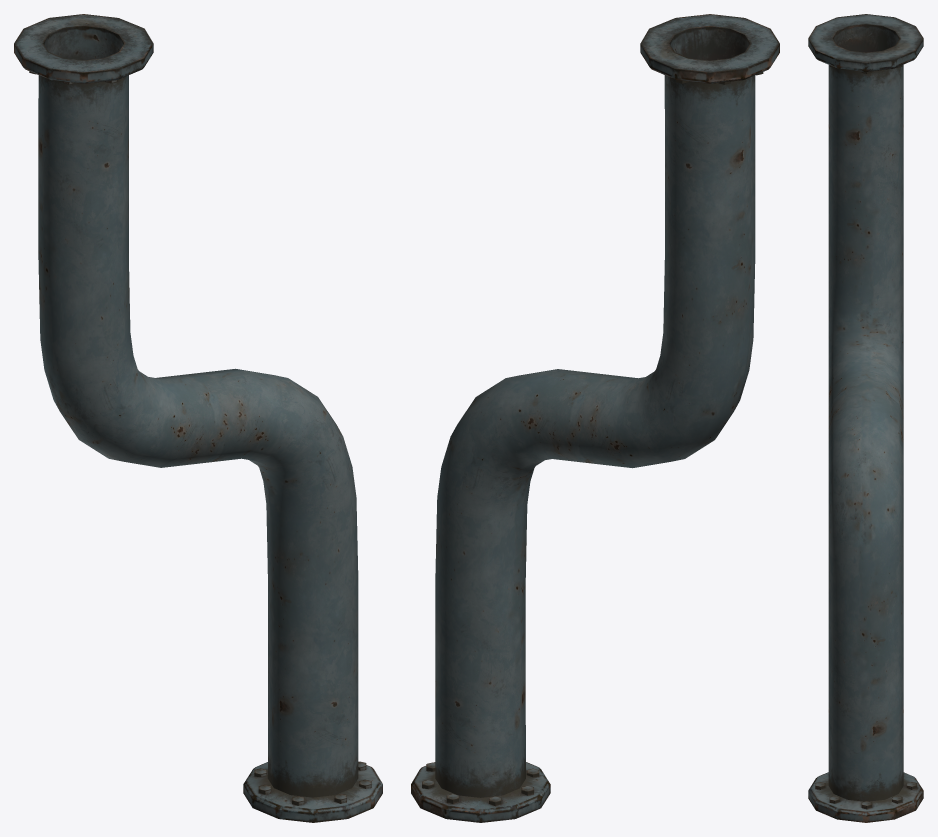
File: pipe_pipe03.fbx
The picture shows the model from 3 angles, left to right: view 1: azimuth 30°, elevation 25°; view 2: azimuth 150°, elevation 25°; view 3: azimuth 270°, elevation 25°; orthographic projection. The views are drawn at different scales.
Parts seen in each view (by area): view 1: modular_industrial_pipes_01_group01__modular_industrial_pipe; view 2: modular_industrial_pipes_01_group01__modular_industrial_pipe; view 3: modular_industrial_pipes_01_group01__modular_industrial_pipe.
Boxes of the visible parts, x1=… form: modular_industrial_pipes_01_group01__modular_industrial_pipe: x1=14, y1=14, x2=382, y2=822; modular_industrial_pipes_01_group01__modular_industrial_pipe: x1=411, y1=14, x2=779, y2=822; modular_industrial_pipes_01_group01__modular_industrial_pipe: x1=808, y1=14, x2=923, y2=822.
Bounding box in the file's own units: 0.5986 × 1.31 × 0.2064.
